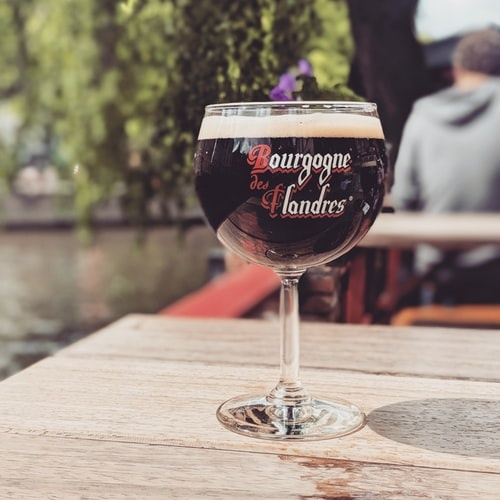whiskey: (186, 96, 382, 434)
